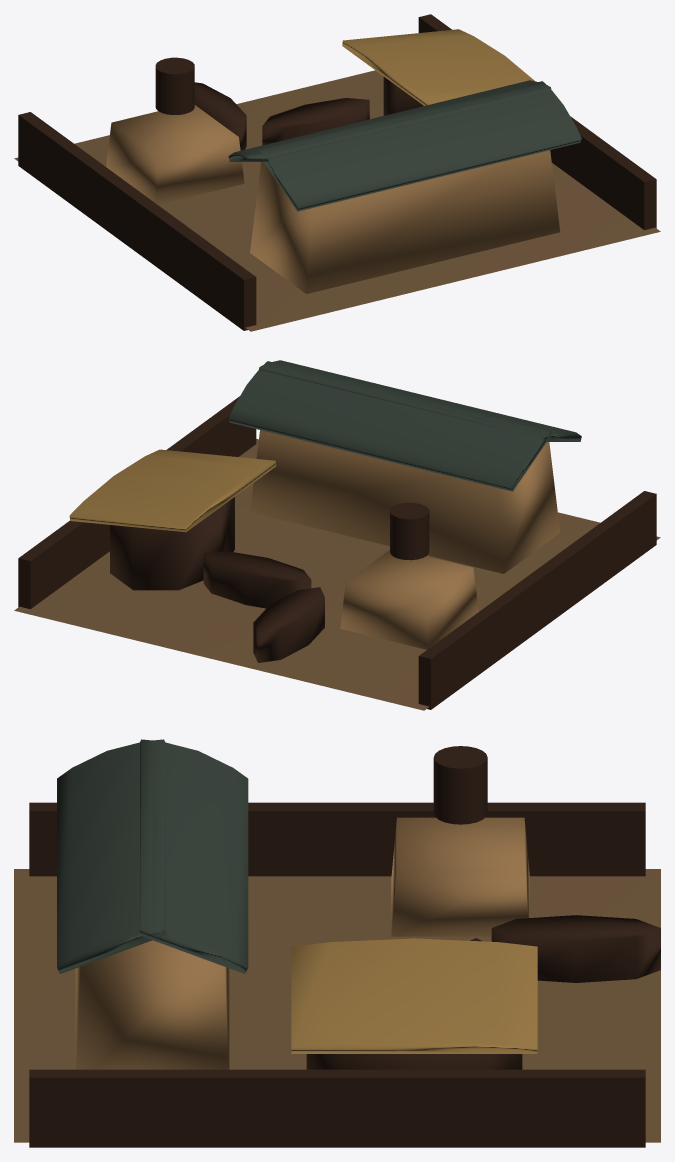
Rendered from R27_HAN_PRODUCTION_WORKSHOP_PRODUCTION_A.fbx.
3 views of the same model, one above another, from view 1: azimuth 30°, elevation 25°; view 2: azimuth 150°, elevation 25°; view 3: azimuth 270°, elevation 25° (orthographic). The views are drawn at different scales.
Visible parts, largest first — view 1: hall_body, yard, hall_roof_back, fence_east, kiln_body, lean_roof, fence_west, hall_roof_front, bench_west, kiln_stack, bench_east, lean_body; view 2: yard, hall_body, hall_roof_front, fence_east, lean_roof, kiln_body, fence_west, lean_body, bench_west, bench_east, hall_roof_back, kiln_stack; view 3: fence_west, yard, lean_roof, fence_east, hall_roof_front, hall_roof_back, hall_body, kiln_body, bench_east, kiln_stack, lean_body.
Boxes of the visible parts, x1,y1,x2,y2 form: hall_body: (250,150,560,293); yard: (14,70,660,331); hall_roof_back: (259,81,581,211); fence_east: (18,112,256,330); kiln_body: (106,105,244,204); lean_roof: (342,29,534,105); fence_west: (418,14,656,230); hall_roof_front: (228,80,551,161); bench_west: (262,98,369,145); kiln_stack: (155,57,194,114); bench_east: (194,82,246,150); lean_body: (383,76,423,115); yard: (14,439,660,710); hall_body: (250,430,560,573); hall_roof_front: (228,361,551,491); fence_east: (418,491,656,709); lean_roof: (69,449,276,532); kiln_body: (340,550,478,649); fence_west: (18,396,256,609); lean_body: (110,497,234,590); bench_west: (203,551,311,608); bench_east: (253,587,324,662); hall_roof_back: (259,360,581,441); kiln_stack: (390,502,429,560); fence_west: (29,1069,645,1147); yard: (14,869,660,1142); lean_roof: (291,938,537,1053); fence_east: (29,802,645,876); hall_roof_front: (138,739,248,973); hall_roof_back: (57,739,166,973); hall_body: (75,940,229,1069); kiln_body: (391,817,529,936); bench_east: (491,915,660,982); kiln_stack: (433,746,487,824); lean_body: (306,1054,522,1069).
Size of the model in its own units: 84.5 by 26.24 by 84.
